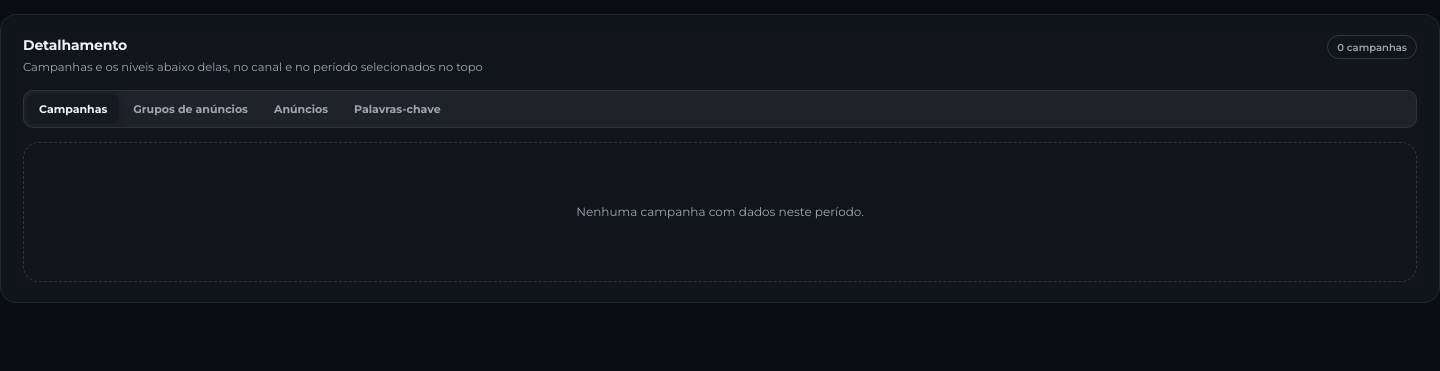
miniatura PMax: só em Anúncios › Grupos de anúncios mostra o grupo PMax com selo, mas sem caixa de imagem
Click the tab "Grupos de anúncios". click: click(191, 109)
box: [121,94,260,124]
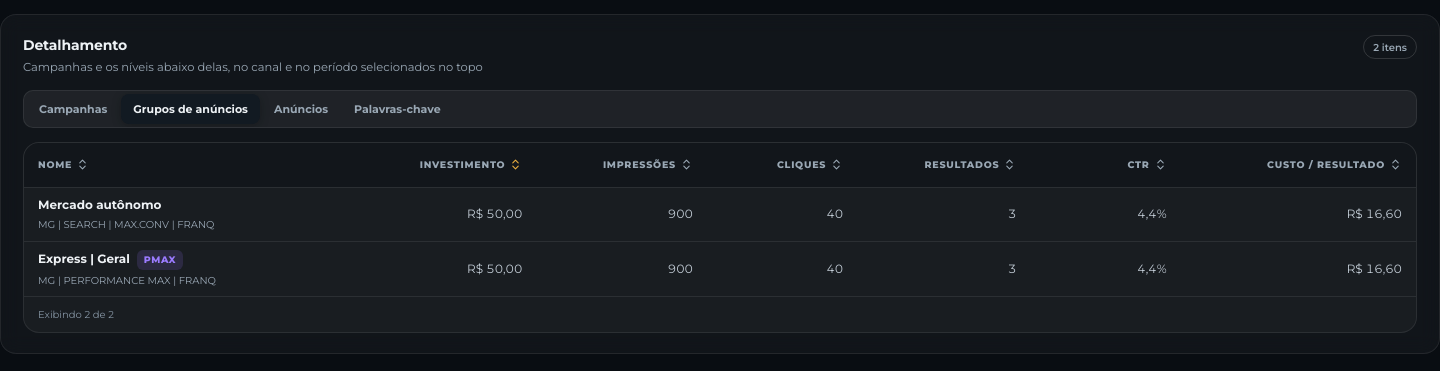
Result: the row that starts with "Mercado autônomo" is shown at [24,187,1416,241]
Result: the number of elements with class "chip" is 1 at [137,250,183,270]
